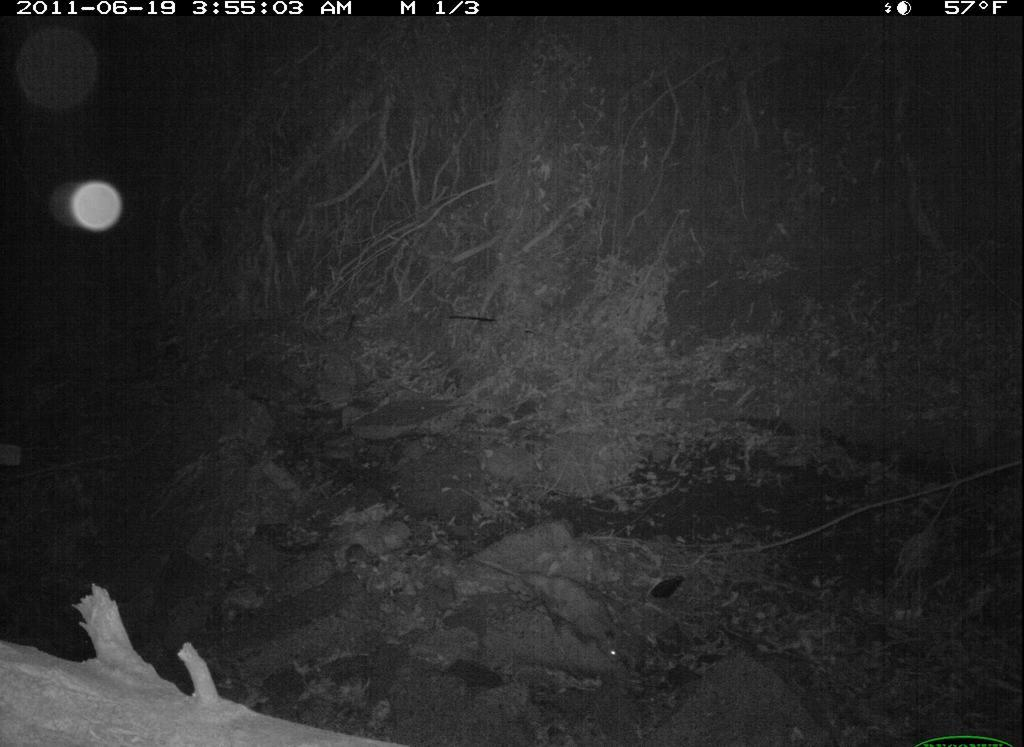opossum: (479, 551, 642, 675)
